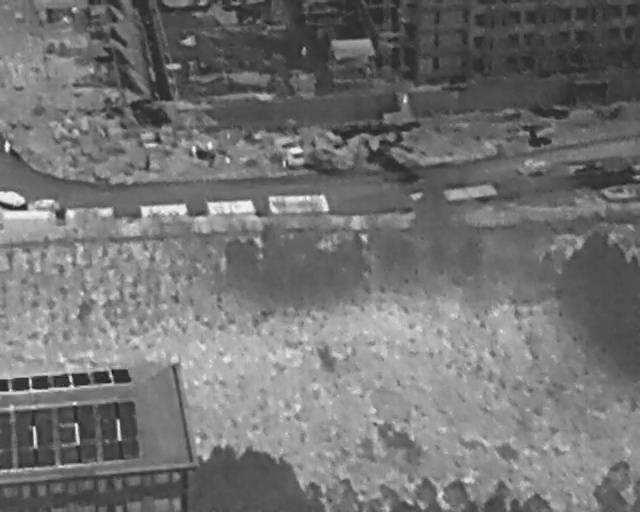Person: (3, 138, 11, 154), (301, 44, 310, 58), (403, 91, 410, 106)
